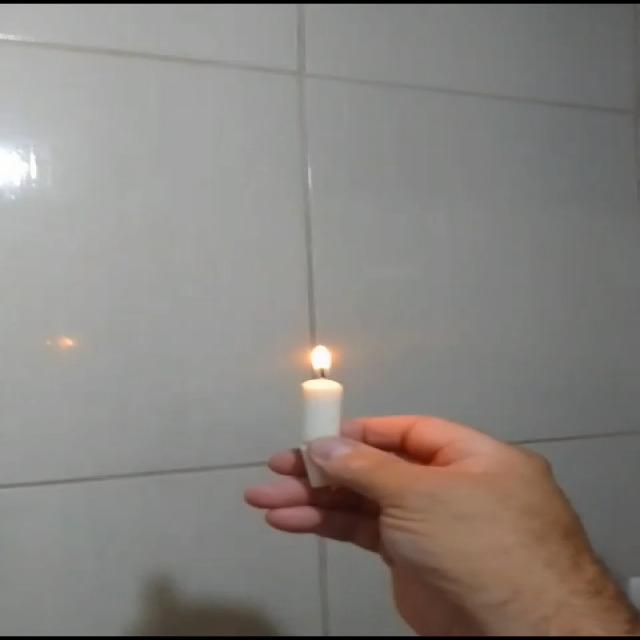fogo-ypXI: (300, 344, 340, 379)
